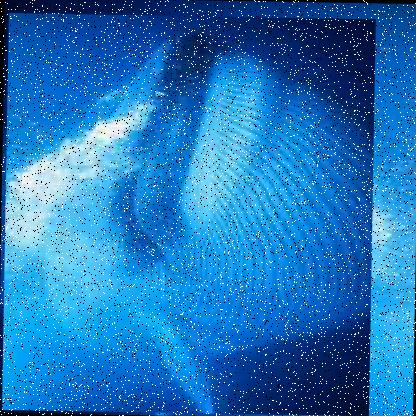blue_whale: (0, 13, 375, 415)
